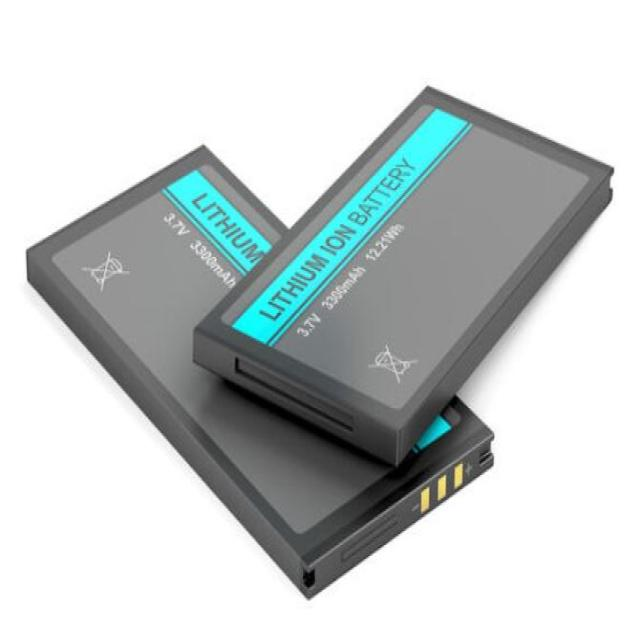electronic: (13, 81, 640, 628)
